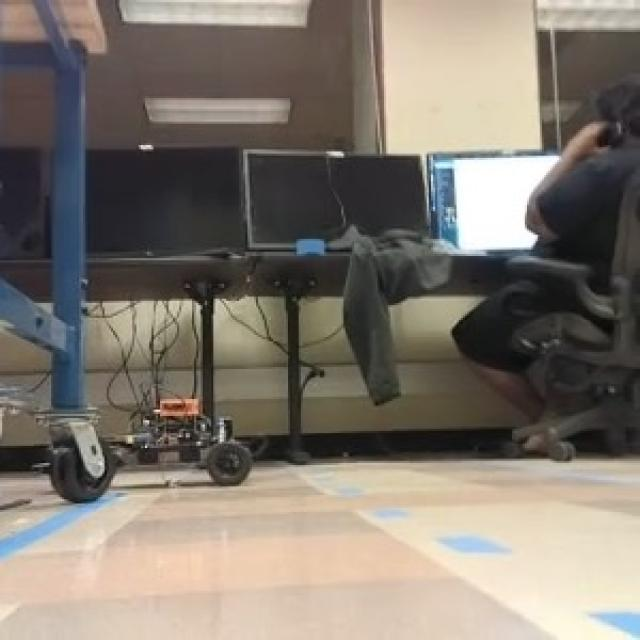obstacle: (102, 399, 245, 482)
